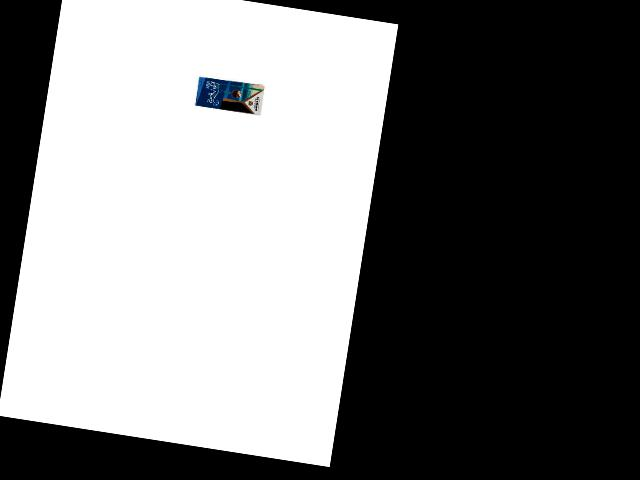chocolate: (193, 74, 266, 117)
